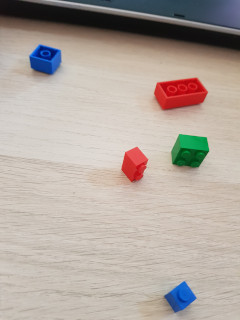1x1 blue: (166, 282, 198, 311)
1x2 red: (121, 147, 150, 183)
2x2 blue: (30, 44, 62, 75)
2x2 green: (170, 134, 209, 169)
2x4 red: (155, 77, 208, 111)
